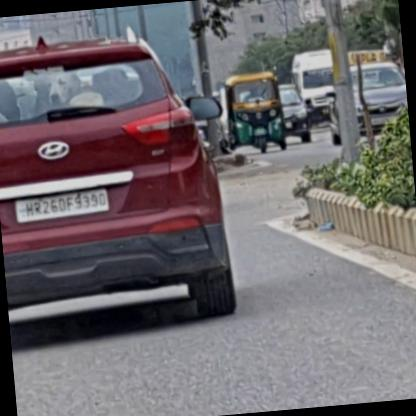car: (0, 20, 242, 339), (326, 61, 410, 147), (278, 82, 314, 144)
truck: (287, 48, 346, 126)
